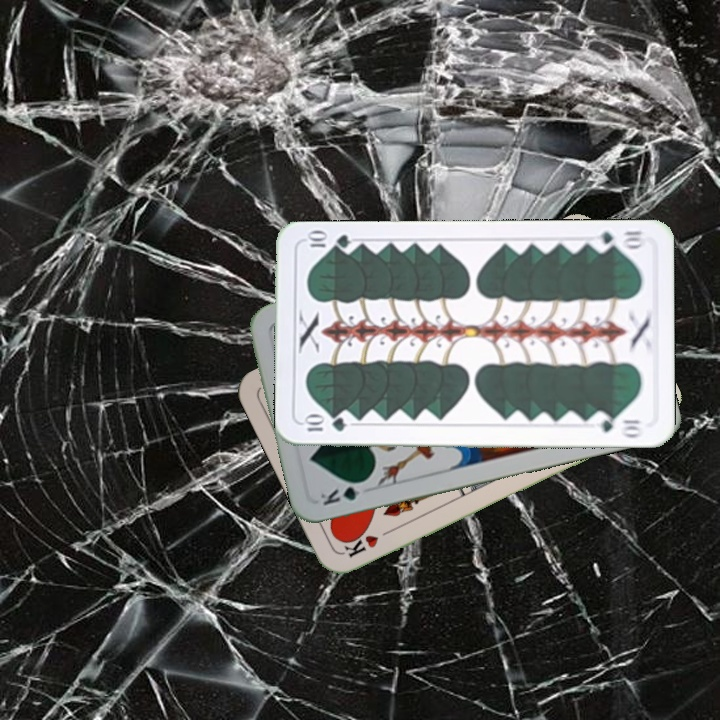G10: (589, 226, 648, 254), (300, 414, 348, 434)
GK: (316, 476, 371, 508)
HK: (340, 524, 396, 561)
